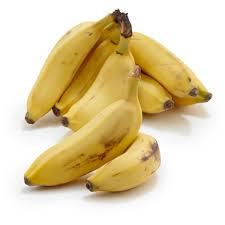banana: (15, 65, 142, 187), (15, 8, 103, 122), (67, 44, 126, 130), (85, 135, 163, 198), (128, 29, 196, 94), (132, 78, 178, 113)
